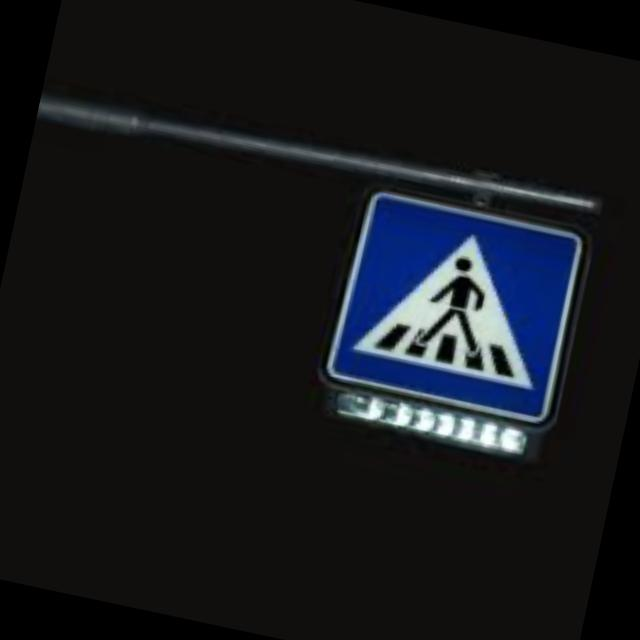crosswalk-sign: (321, 183, 595, 434)
